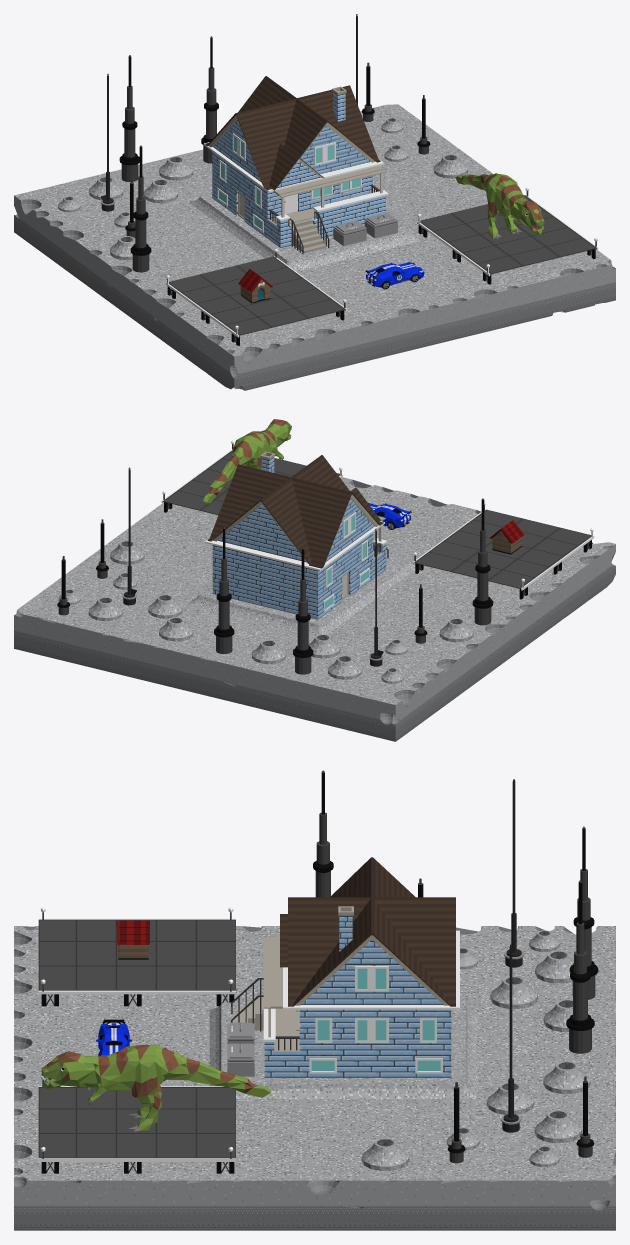
The picture shows the model from 3 angles, top to bottom: view 1: azimuth 30°, elevation 25°; view 2: azimuth 150°, elevation 25°; view 3: azimuth 270°, elevation 25°; orthographic projection. The views are drawn at different scales.
Parts seen in each view (by area): view 1: Cube.027, Cube.547, Cube.025, Cube.026, Cube.028, ANIMAL_TREX, Cylinder.021, Cylinder.020, VEHICLES_RACING_CAR, Cylinder.017, OBJRANDOM_DOGHOUSE, Cube.029 (+5 smaller); view 2: Cube.027, Cube.547, Cube.025, Cube.028, Cube.026, ANIMAL_TREX, Cylinder.021, Cylinder.020, Cylinder.017, OBJRANDOM_DOGHOUSE, VEHICLES_RACING_CAR, Cylinder.030 (+9 smaller); view 3: Cube.027, Cube.547, Cube.025, Cube.026, Cube.028, ANIMAL_TREX, Cylinder.017, Cylinder.020, Cylinder.021, OBJRANDOM_DOGHOUSE, Cylinder.033, Cylinder.031 (+11 smaller).
Boxes of the visible parts, box(x1,y1,x2,y2) form: Cube.027: box(14, 104, 615, 390); Cube.547: box(203, 76, 388, 254); Cube.025: box(165, 249, 347, 345); Cube.026: box(417, 187, 598, 284); Cube.028: box(190, 193, 420, 271); ANIMAL_TREX: box(455, 173, 544, 239); Cylinder.021: box(130, 145, 151, 272); Cylinder.020: box(119, 55, 139, 181); VEHICLES_RACING_CAR: box(365, 262, 424, 289); Cylinder.017: box(201, 36, 218, 163); OBJRANDOM_DOGHOUSE: box(238, 269, 272, 303); Cube.029: box(333, 220, 366, 245); Cube.027: box(14, 477, 615, 741); Cube.547: box(205, 451, 388, 619); Cube.025: box(413, 502, 594, 599); Cube.028: box(188, 554, 415, 635); Cube.026: box(161, 440, 342, 515); ANIMAL_TREX: box(203, 419, 291, 503); Cylinder.021: box(472, 498, 493, 625); Cylinder.020: box(293, 547, 313, 674); Cylinder.017: box(214, 527, 234, 653); OBJRANDOM_DOGHOUSE: box(490, 520, 524, 554); VEHICLES_RACING_CAR: box(368, 502, 411, 529); Cylinder.030: box(148, 594, 182, 618); Cube.027: box(14, 926, 615, 1230); Cube.547: box(231, 857, 459, 1077); Cube.025: box(38, 907, 235, 1006); Cube.026: box(38, 1075, 235, 1173); Cube.028: box(209, 1002, 477, 1098); ANIMAL_TREX: box(41, 1044, 271, 1131); Cylinder.017: box(566, 880, 594, 1053); Cylinder.020: box(569, 826, 598, 999); Cylinder.021: box(313, 770, 333, 897); OBJRANDOM_DOGHOUSE: box(116, 920, 149, 959); Cylinder.033: box(361, 1138, 409, 1170); Cylinder.031: box(534, 1110, 582, 1142).
Size of the model in its own units: 4000 by 1815 by 4000.
Materials: 40 (5 with a texture image).
